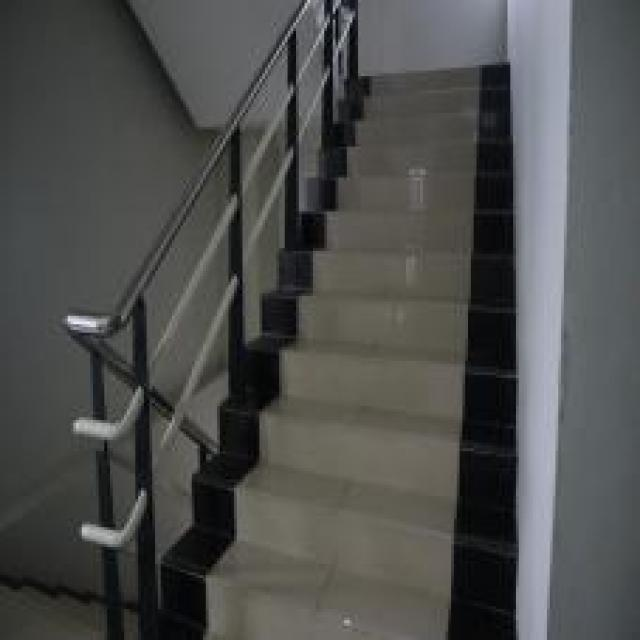upstair: (306, 179, 514, 593)
